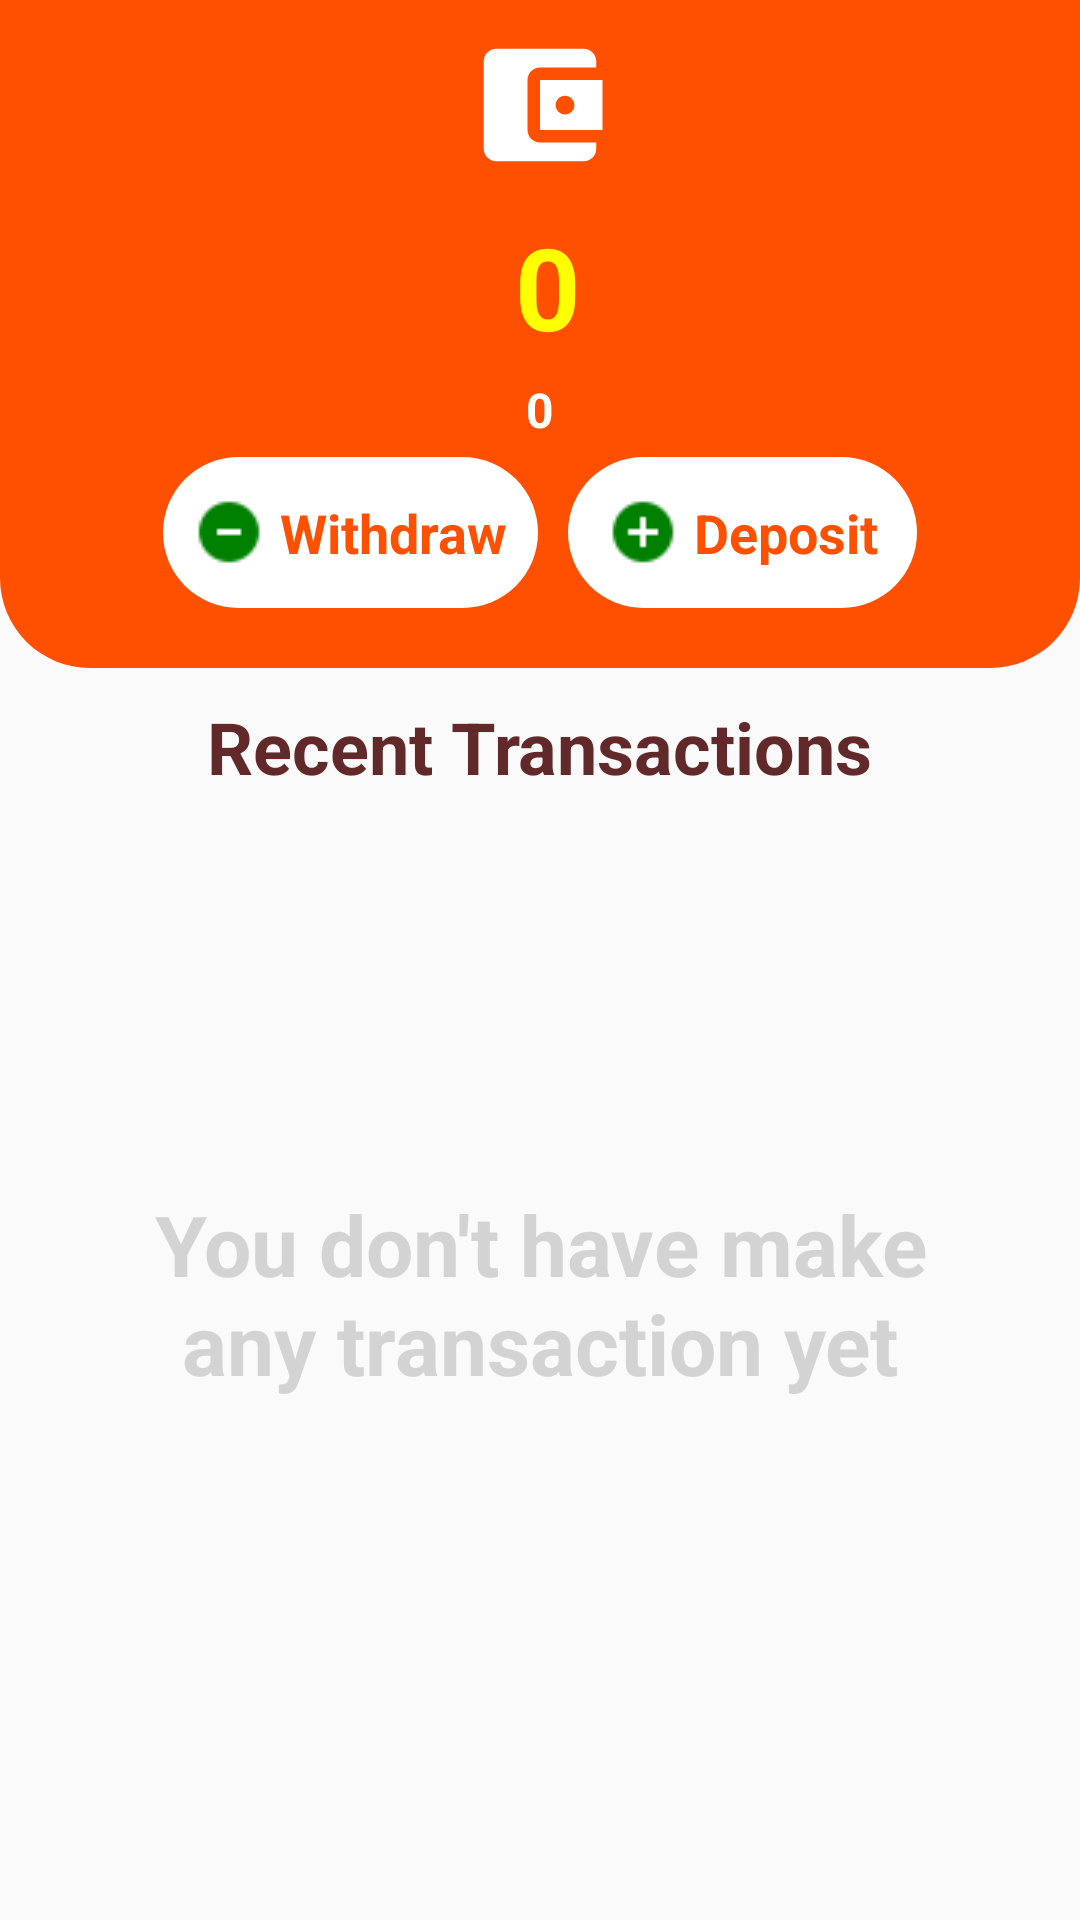

Icon bounding boxes for this 1080 × 1920 phone screenshot, format (x1, y1, x2, y2):
account balance wallet: (483, 48, 603, 162)
minus: (198, 501, 260, 563)
plus: (612, 501, 674, 563)
